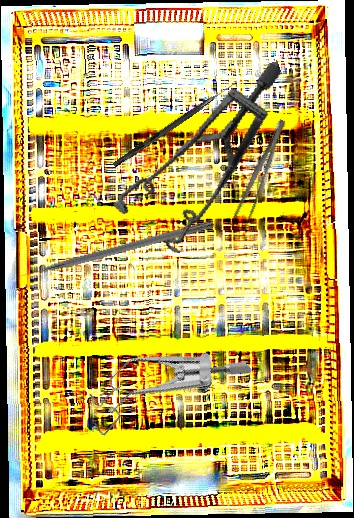Dressing Forceps: (229, 116, 292, 233)
Hook Surgical: (10, 218, 215, 283), (112, 77, 239, 170)
Speculum: (87, 60, 325, 268), (70, 299, 255, 481)
